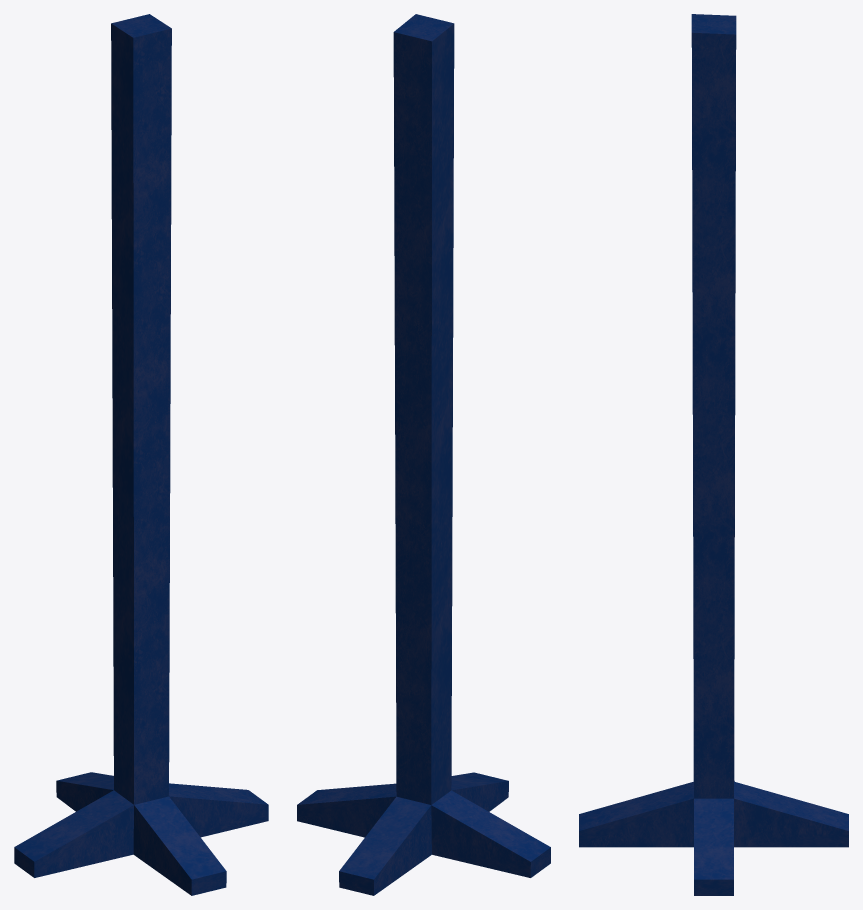
The model's file is stand02.fbx.
3 renders of one model, left to right at view 1: azimuth 30°, elevation 25°; view 2: azimuth 150°, elevation 25°; view 3: azimuth 270°, elevation 25°, orthographic.
Visible parts, largest first — view 1: stand02; view 2: stand02; view 3: stand02.
Boxes of the visible parts, x1,y1,x2,y2 form: stand02: (14,14,268,895); stand02: (297,14,550,895); stand02: (579,14,848,895).
Size of the model in its own units: 30 by 100 by 30.
